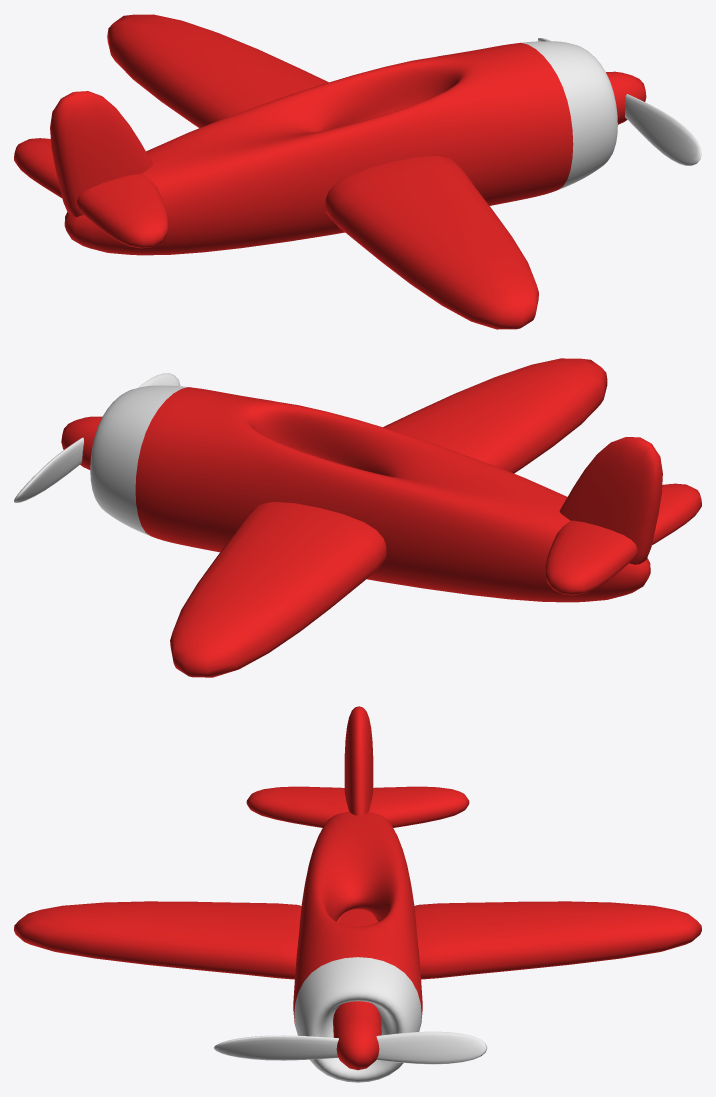
The model's file is toyplane.fbx.
3 views of the same model, one above another, from view 1: azimuth 30°, elevation 25°; view 2: azimuth 150°, elevation 25°; view 3: azimuth 270°, elevation 25° (orthographic). The views are drawn at different scales.
Visible parts, largest first — view 1: Cube; view 2: Cube; view 3: Cube.
Part boxes in pixels (bbox=[...]): Cube: bbox=[14, 14, 701, 329]; Cube: bbox=[14, 358, 701, 677]; Cube: bbox=[14, 706, 701, 1082].
Bounding box in the file's own units: 2412 × 802 × 2857.
